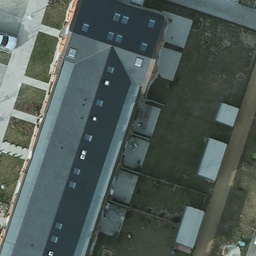car: (1, 32, 18, 51)
